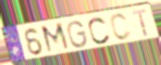6: (23, 26, 45, 57)
C: (87, 16, 112, 46), (109, 12, 133, 42)
G: (67, 20, 89, 49)
M: (39, 22, 73, 56)
T: (131, 8, 150, 38)
